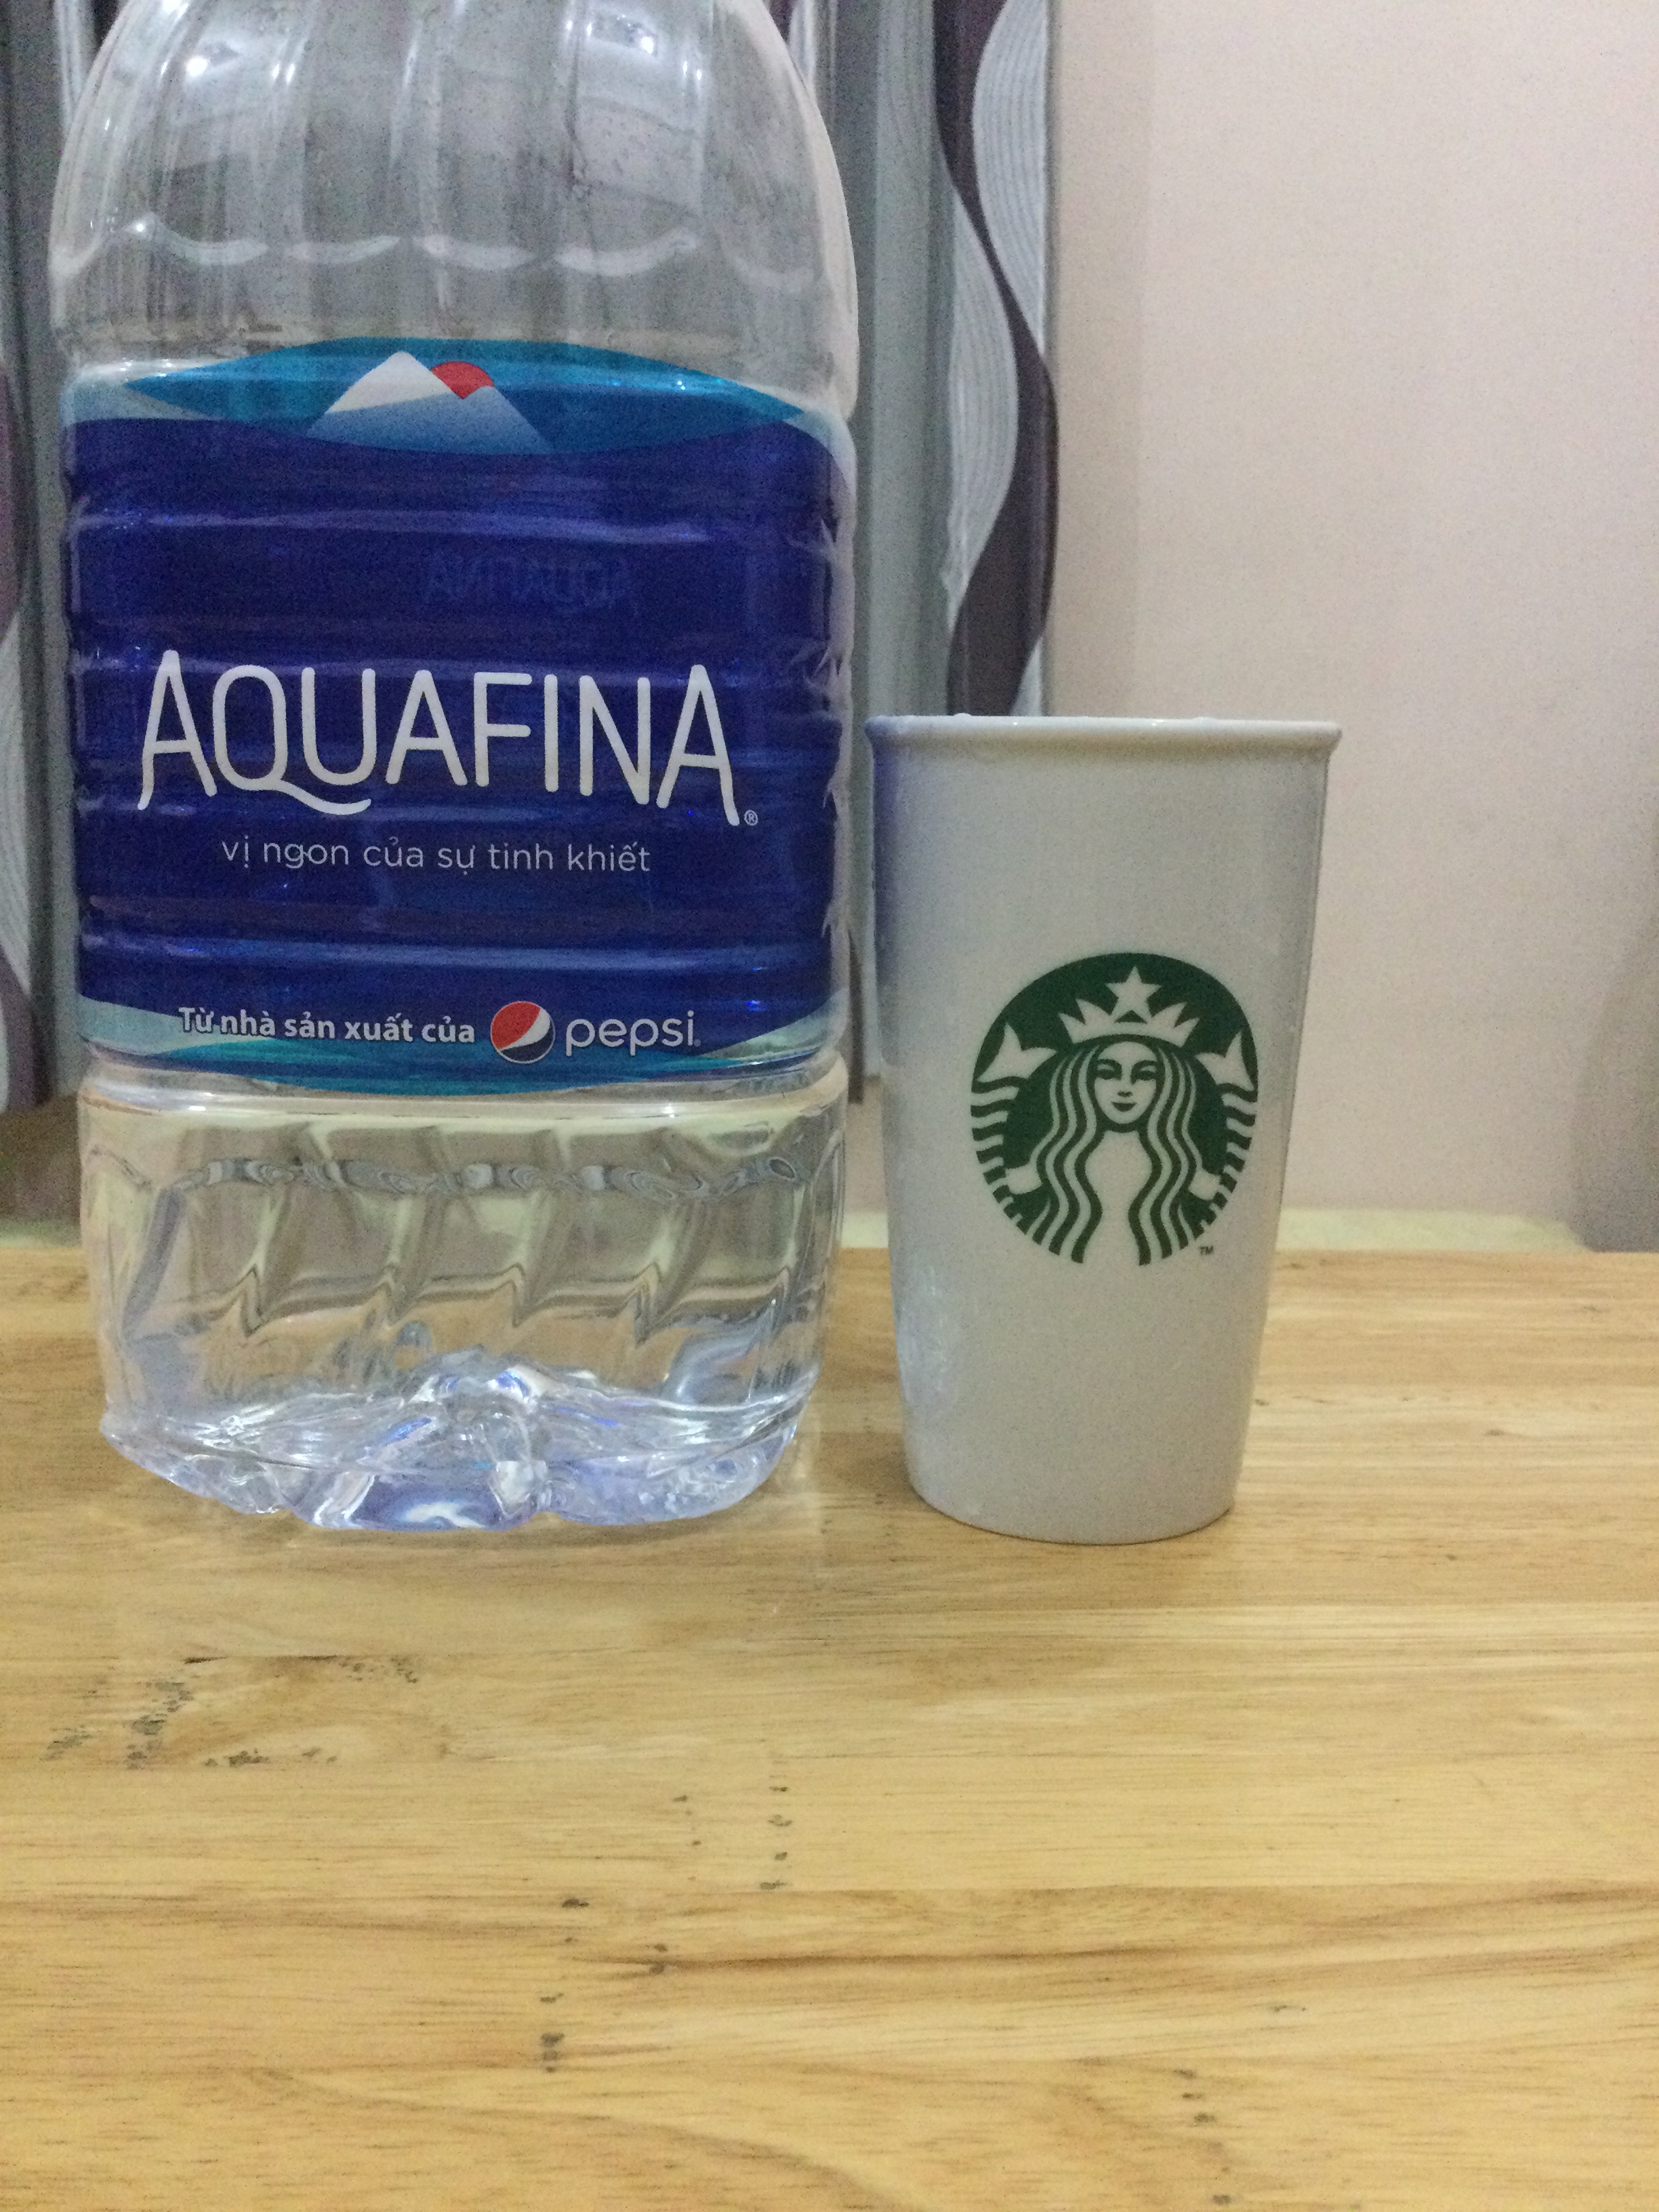aquafina: (127, 631, 746, 840)
starbucks: (965, 949, 1267, 1277)
